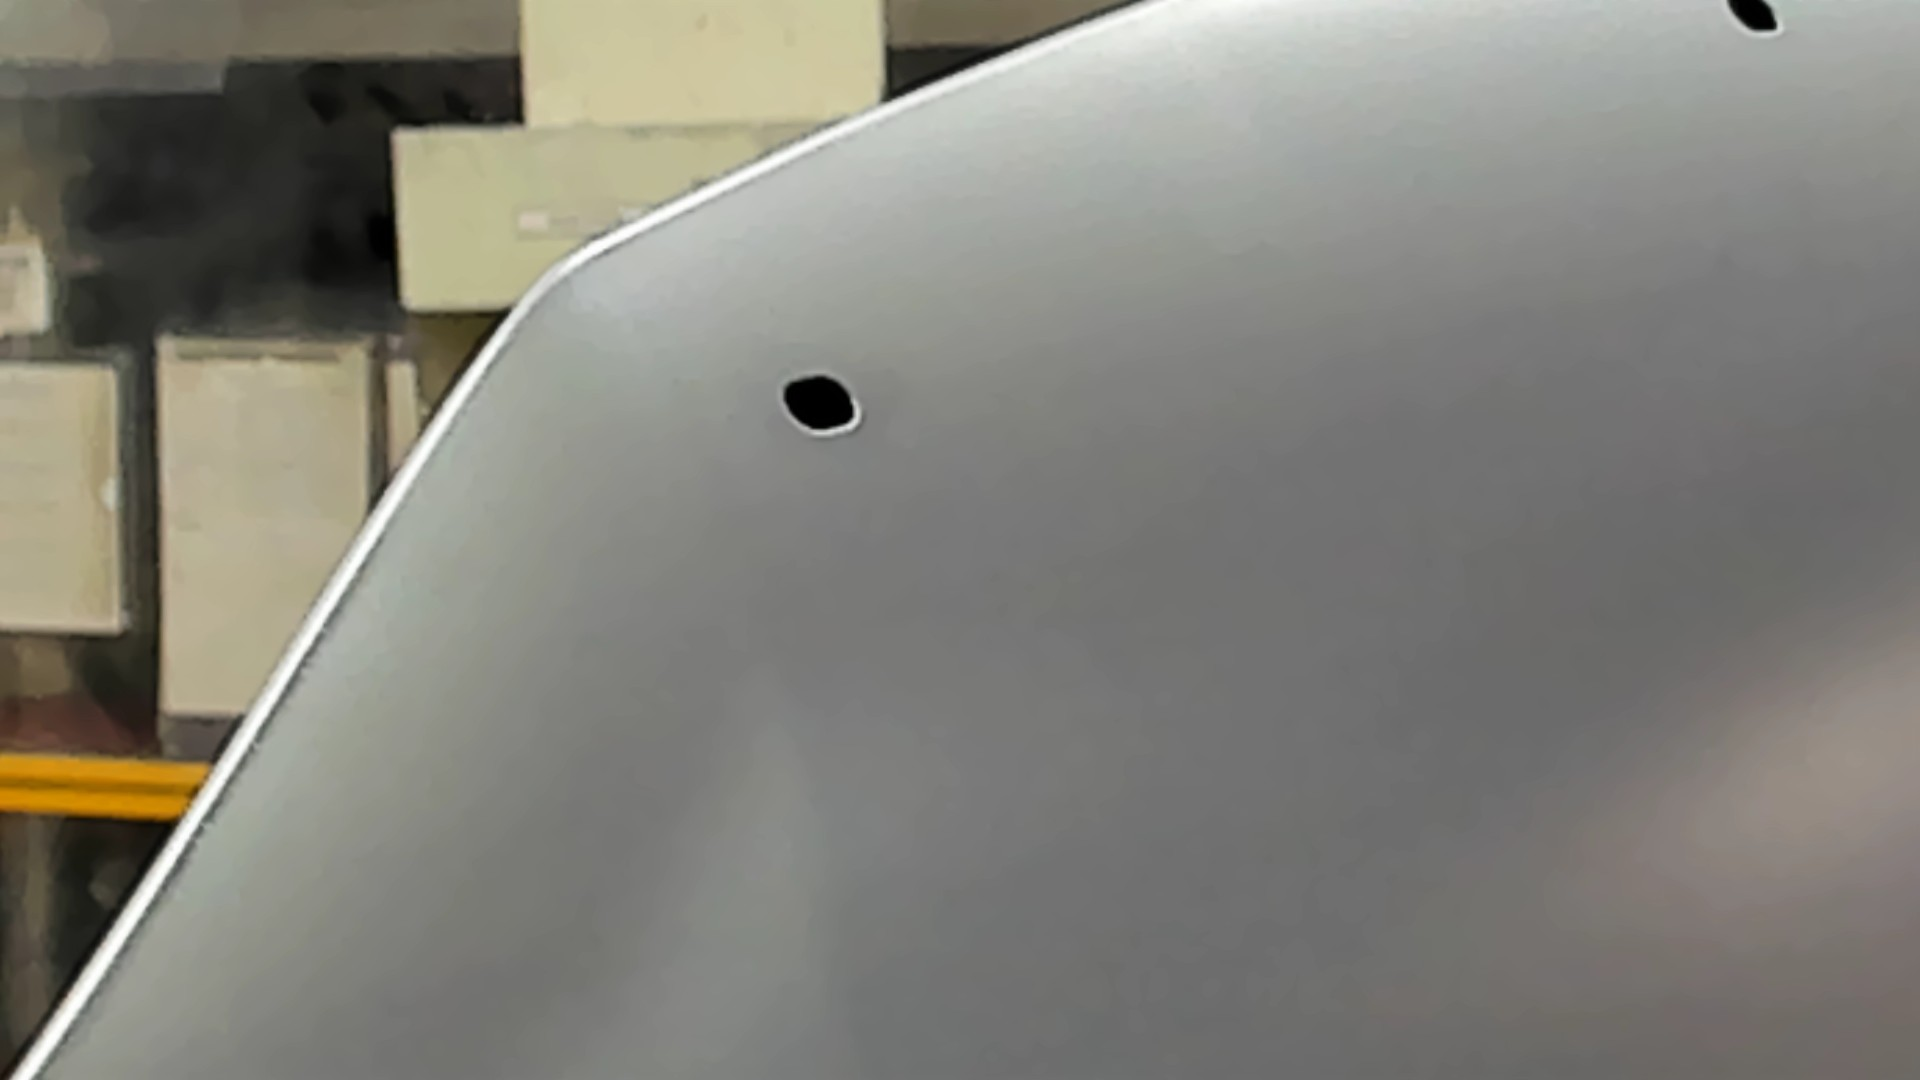amorfo: (765, 369, 870, 444), (1716, 1, 1803, 42)
capo: (957, 103, 1920, 1080)
